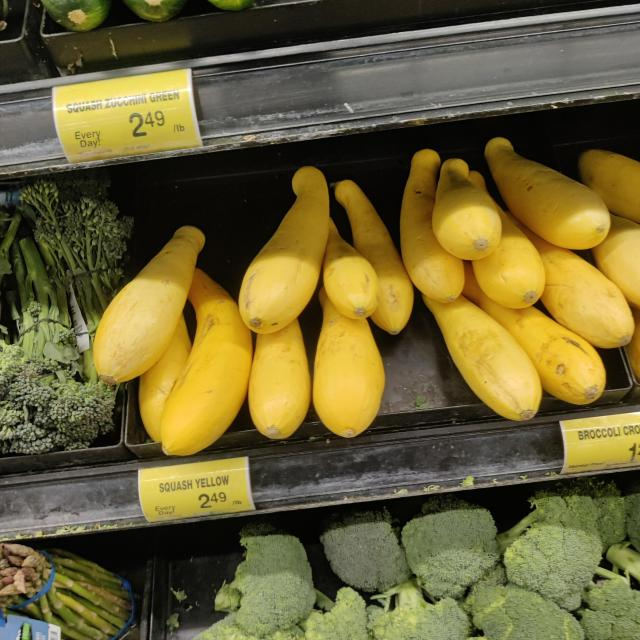Broccoli: (215, 522, 317, 637), (504, 494, 604, 610), (403, 494, 505, 600), (321, 506, 410, 591)
Squash: (94, 224, 206, 386), (160, 267, 251, 458), (239, 165, 330, 334), (485, 136, 611, 250), (332, 179, 416, 334), (434, 158, 502, 260)
